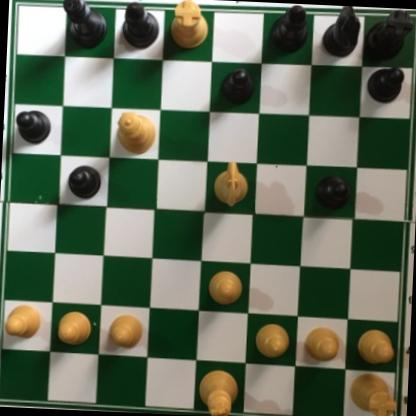black-bishop: (120, 0, 161, 52), (269, 4, 310, 56)
black-king: (58, 0, 108, 52)
black-knight: (321, 6, 363, 61)
black-pawn: (364, 63, 408, 105), (218, 65, 255, 108), (13, 106, 52, 145), (313, 172, 351, 210), (66, 161, 103, 199)
black-rook: (362, 8, 413, 63)
white-king: (196, 368, 244, 416)
white-knight: (212, 158, 251, 210)
white-pawn: (252, 319, 293, 360), (301, 324, 342, 365), (55, 306, 92, 349), (2, 301, 44, 338), (353, 325, 395, 362), (206, 270, 246, 307), (107, 311, 144, 350)
white-queen: (114, 109, 156, 153)
white-rook: (347, 369, 397, 416), (168, 0, 205, 53)
